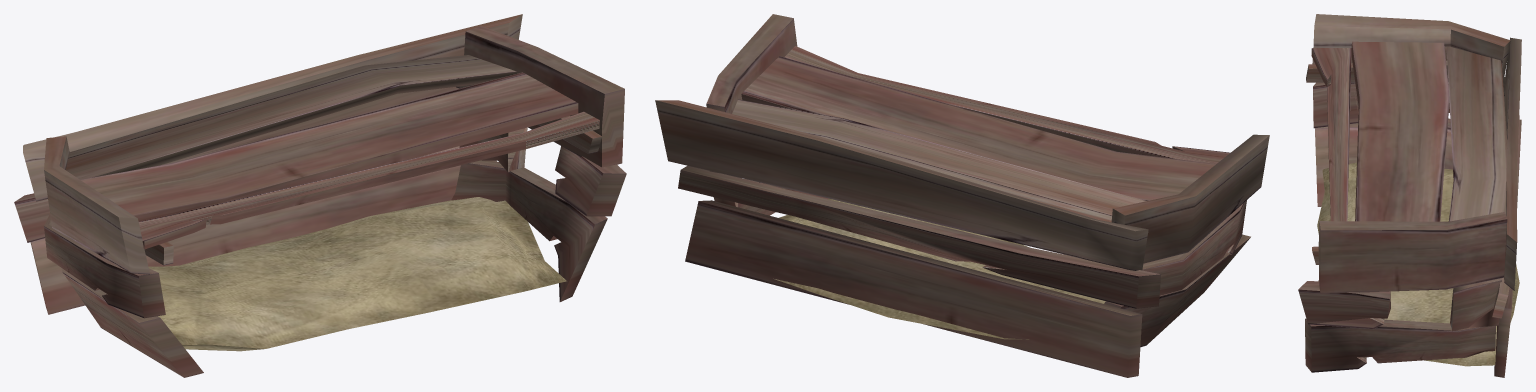
File: bed_shanty.fbx
3 renders of one model, left to right at view 1: azimuth 30°, elevation 25°; view 2: azimuth 150°, elevation 25°; view 3: azimuth 270°, elevation 25°, orthographic. The views are drawn at different scales.
Visible parts, largest first — view 1: sack, plank_41, plank_47, plank_64, plank_63, plank_66, plank_67, plank_57, plank_61, plank_1, plank_62, plank_68 (+3 smaller); view 2: plank_64, plank_63, plank_41, plank_69, plank_47, plank_61, plank_66, plank_57, sack, plank_1, plank_62; view 3: plank_41, plank_57, plank_47, plank_67, plank_61, sack, plank_66, plank_68, plank_63, plank_70, plank_62, plank_64 (+3 smaller).
Boxes of the visible parts, <box> form: sack: <box>148,197,566,351</box>; plank_41: <box>80,72,578,221</box>; plank_47: <box>65,55,517,179</box>; plank_64: <box>30,146,496,314</box>; plank_63: <box>23,14,522,201</box>; plank_66: <box>138,111,599,249</box>; plank_67: <box>451,160,607,301</box>; plank_57: <box>464,26,624,167</box>; plank_61: <box>44,136,149,274</box>; plank_1: <box>44,214,165,318</box>; plank_62: <box>61,268,203,377</box>; plank_68: <box>555,146,626,216</box>; plank_64: <box>685,200,1142,377</box>; plank_63: <box>655,100,1148,270</box>; plank_41: <box>741,56,1215,200</box>; plank_69: <box>678,165,1160,308</box>; plank_47: <box>732,99,1146,222</box>; plank_61: <box>1111,134,1269,263</box>; plank_66: <box>784,46,1230,163</box>; plank_57: <box>706,14,797,113</box>; sack: <box>773,198,1105,339</box>; plank_1: <box>1142,200,1246,295</box>; plank_62: <box>1104,234,1250,347</box>; plank_41: <box>1351,41,1449,221</box>; plank_57: <box>1318,212,1507,293</box>; plank_47: <box>1446,46,1507,221</box>; plank_67: <box>1305,318,1495,372</box>; plank_61: <box>1312,14,1510,84</box>; sack: <box>1317,162,1519,366</box>; plank_66: <box>1311,48,1351,221</box>; plank_68: <box>1298,281,1390,329</box>; plank_63: <box>1504,37,1521,290</box>; plank_70: <box>1450,278,1501,331</box>; plank_62: <box>1315,118,1452,206</box>; plank_64: <box>1494,119,1521,377</box>.
Bounding box in the file's own units: 1078 × 378 × 458.
1 material, 1 textured.
